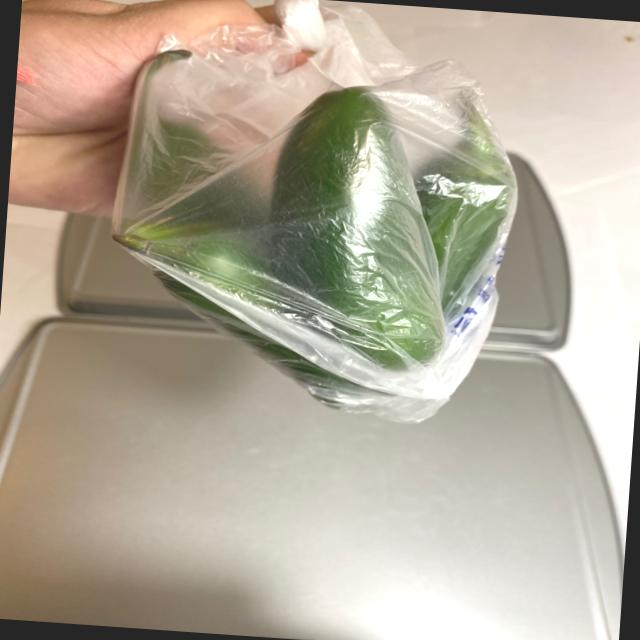chilli: (84, 28, 536, 430)
